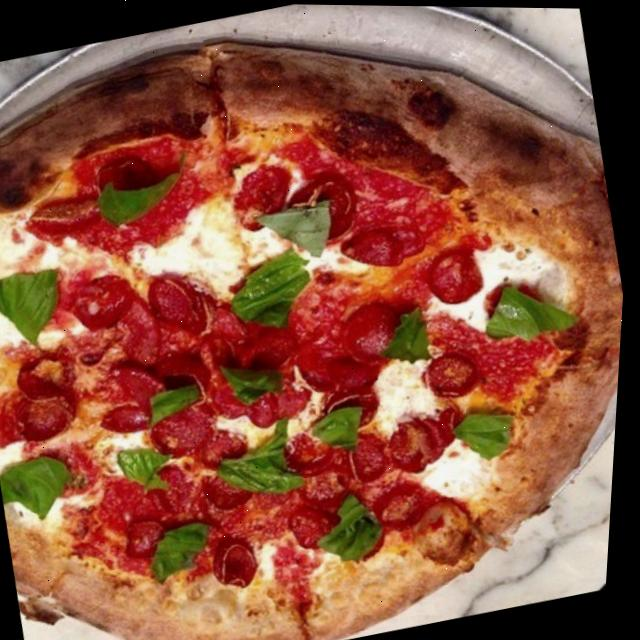basil: (222, 242, 324, 340), (91, 145, 199, 230), (480, 268, 586, 349), (0, 259, 76, 357), (0, 446, 92, 526), (257, 194, 345, 276), (311, 483, 398, 565), (142, 517, 230, 588), (449, 399, 527, 471), (217, 350, 299, 410), (115, 437, 186, 504), (381, 301, 449, 370), (308, 398, 376, 461), (143, 376, 217, 428)
pepperoni: (69, 250, 251, 386), (347, 405, 473, 484), (152, 397, 250, 478), (338, 215, 439, 282), (90, 360, 173, 440), (318, 349, 390, 434), (337, 295, 410, 378), (9, 382, 90, 449), (226, 379, 322, 435), (12, 342, 85, 410), (417, 343, 492, 409), (419, 245, 492, 309), (305, 175, 369, 247), (207, 529, 273, 598), (231, 163, 300, 227), (376, 480, 440, 538), (198, 465, 259, 519), (122, 511, 178, 566), (286, 426, 341, 478), (285, 501, 340, 552)
pizza: (0, 0, 640, 640)
